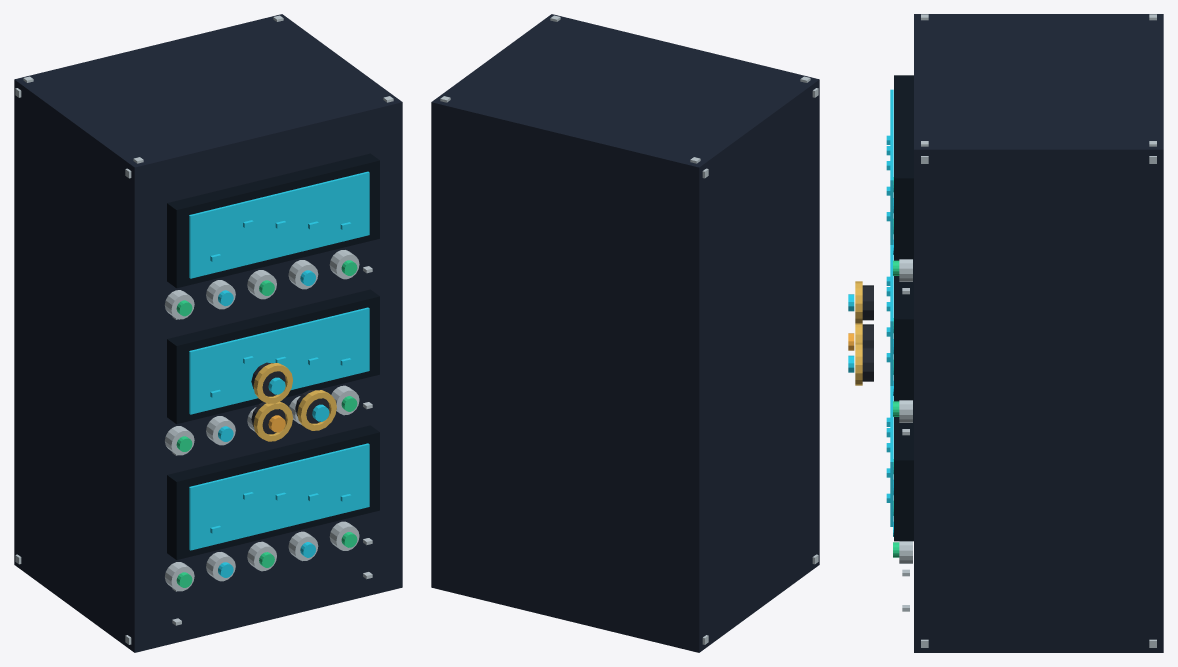
File: 60_L82_RealTimeMissionWorkloadGenerator.fbx
3 renders of one model, left to right at view 1: azimuth 30°, elevation 25°; view 2: azimuth 150°, elevation 25°; view 3: azimuth 270°, elevation 25°, orthographic. The views are drawn at different scales.
Visible parts, largest first — view 1: RealTimeMissionWorkloadGenerator; view 2: RealTimeMissionWorkloadGenerator; view 3: RealTimeMissionWorkloadGenerator.
Boxes of the visible parts, <box> form: RealTimeMissionWorkloadGenerator: <box>14,14,402,652</box>; RealTimeMissionWorkloadGenerator: <box>431,14,819,652</box>; RealTimeMissionWorkloadGenerator: <box>848,14,1163,652</box>.
Bounding box in the file's own units: 106 × 182 × 102.
